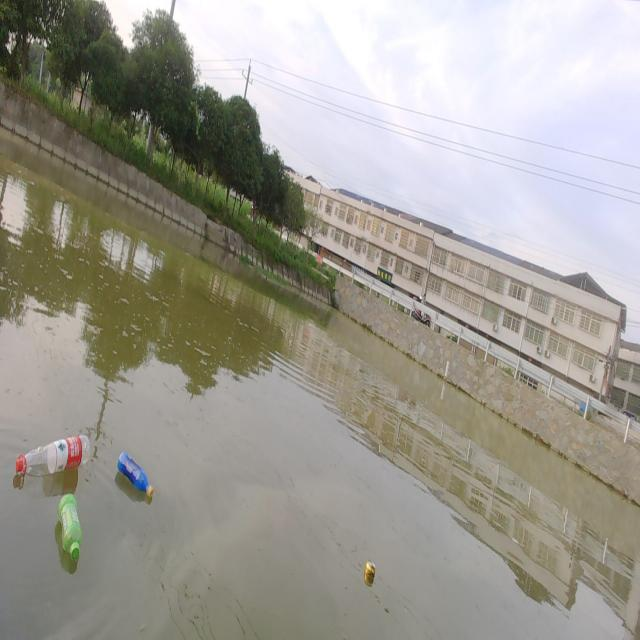bottle: (1, 425, 104, 485), (107, 438, 169, 505), (51, 491, 93, 571)
